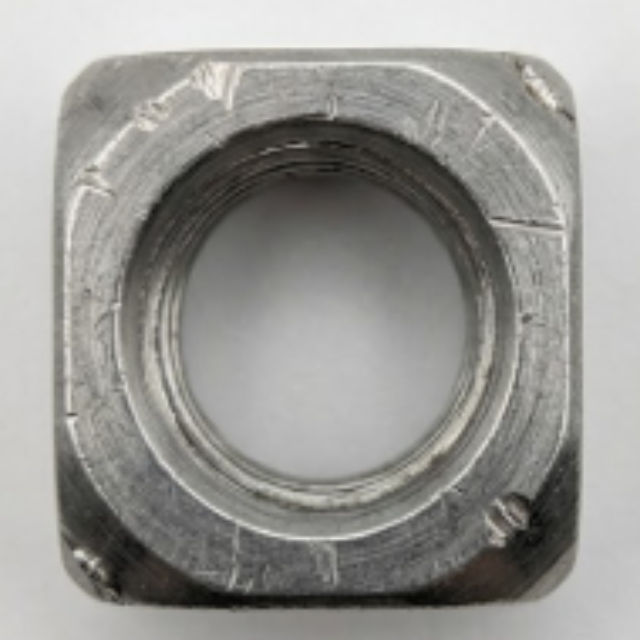defect: (501, 51, 587, 127), (60, 525, 126, 605), (477, 487, 553, 548), (57, 150, 122, 210), (181, 60, 255, 112), (297, 535, 357, 596), (222, 512, 261, 598), (399, 98, 456, 155), (112, 88, 184, 133), (480, 208, 572, 243), (474, 108, 505, 153), (322, 85, 349, 129), (518, 299, 551, 335), (57, 392, 78, 438)
